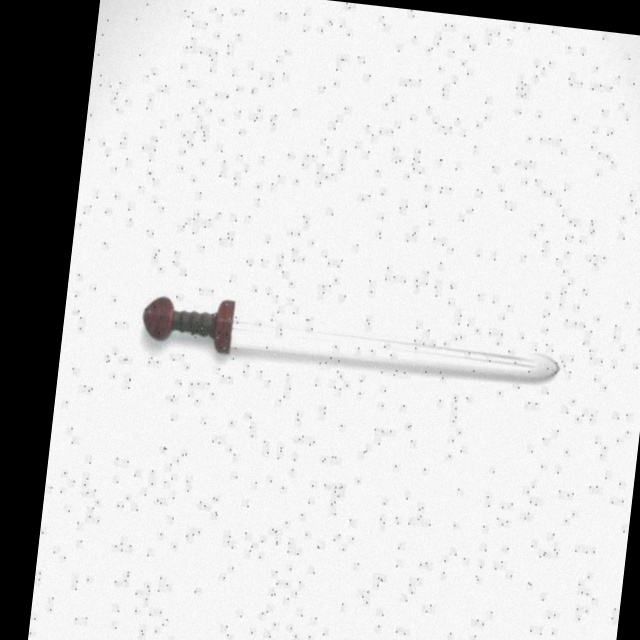Sharp-Object: (142, 294, 561, 394)
